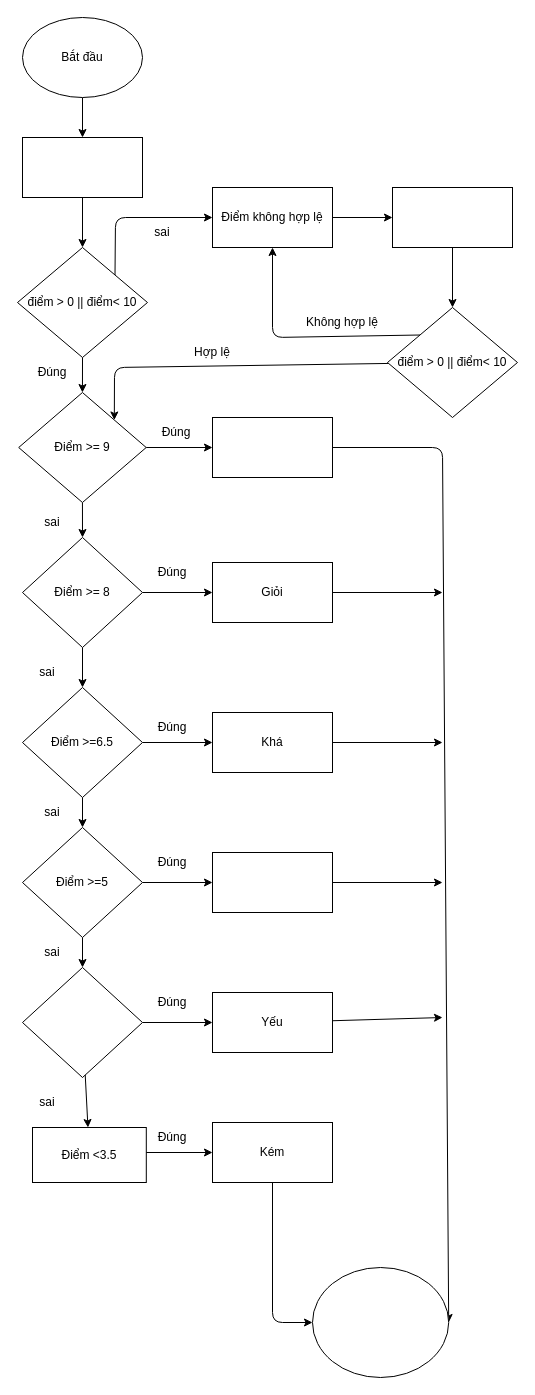
Image size: 535x1395. Some labels were removed from this diagram. The centre of each missing label's shape, as x and y in pixels:
Kết thúc: (x=380, y=1322)
Nhập lại: (x=452, y=217)
Nhập điểm: (x=82, y=167)
Trung bình: (x=272, y=882)
Xuất sắc: (x=272, y=447)
Điểm >=3.5: (x=82, y=1022)
